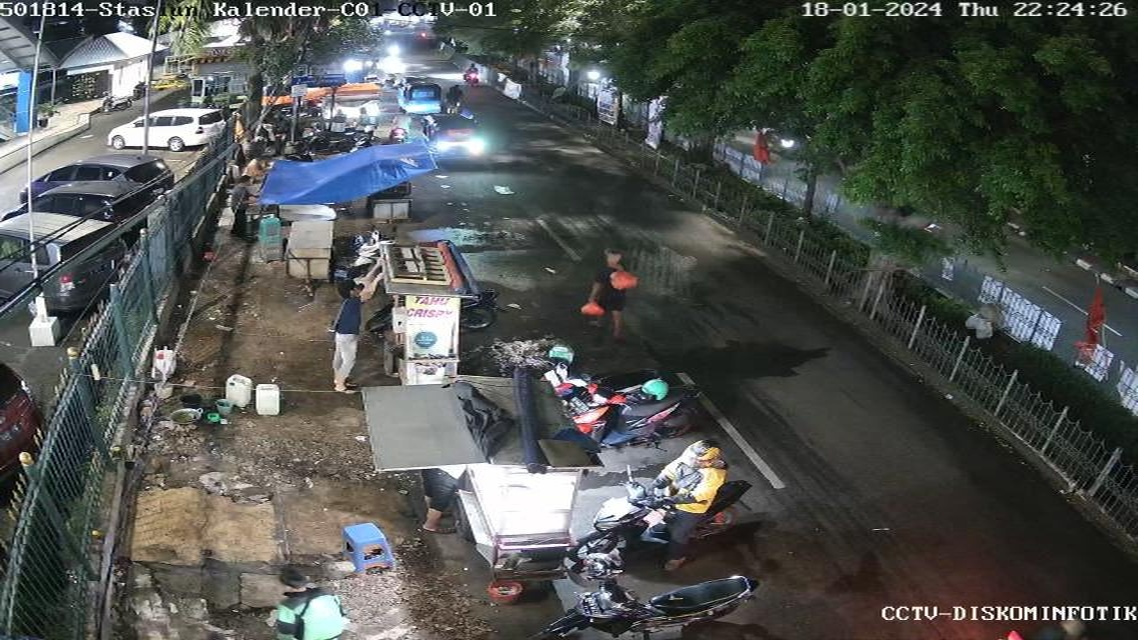Gerobak: (352, 380, 574, 585), (352, 231, 461, 378), (273, 202, 344, 292)
